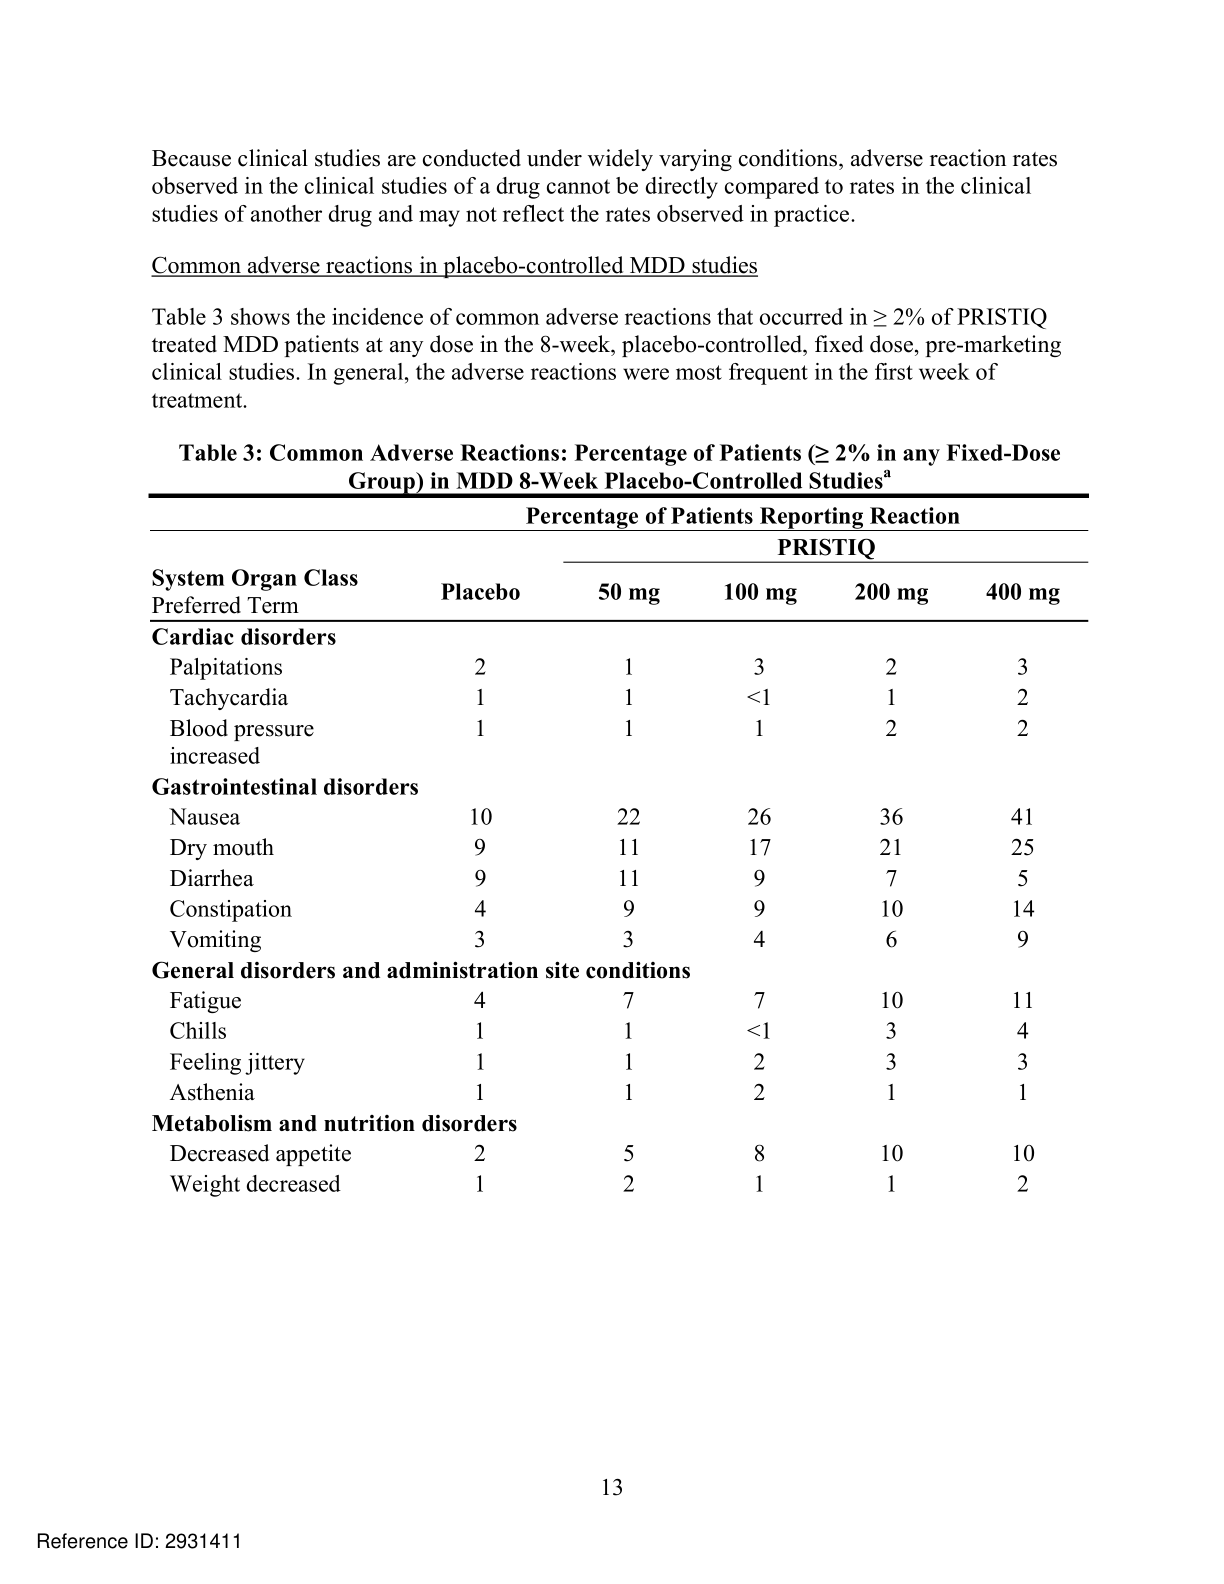partial_lined_merged_cells: (148, 491, 1092, 1198)
